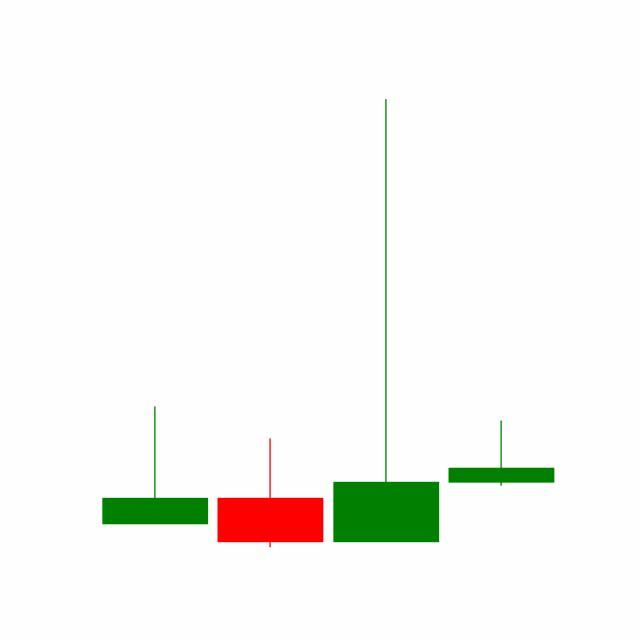Gravestone Doji: (444, 420, 560, 488)
